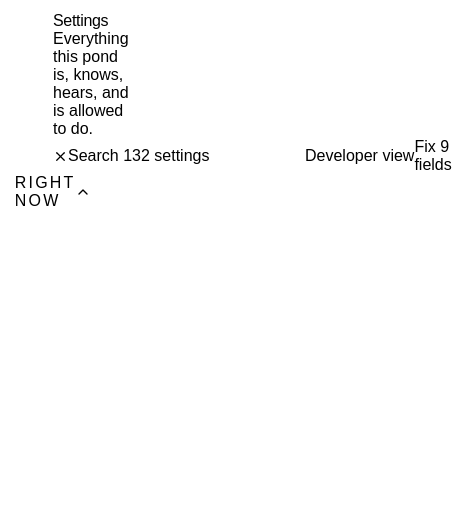
SettingsCatalogue › offers a way back into setup, behind developer view and behind a confirm
Expected: the button "Start onboarding" is not shown
Click the button "Developer view": (356,156) [298,147,414,165]
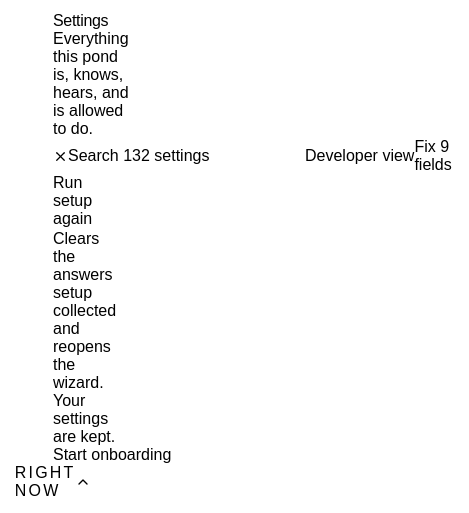
# First press only arms it — re-running setup throws away what it collected.
Click the button "Start onboarding": (112,455) [53,446,171,464]
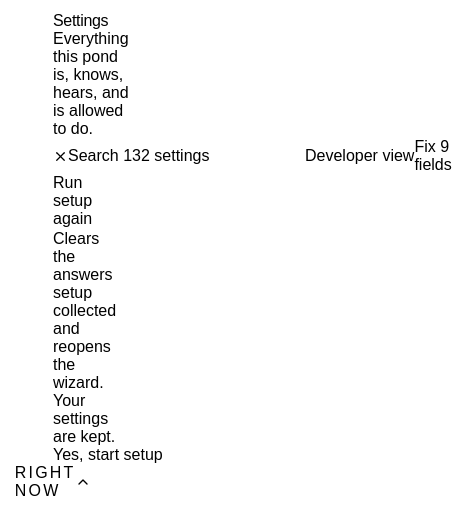
Now the button "Yes, start setup" is shown, box [53,446,163,464]
